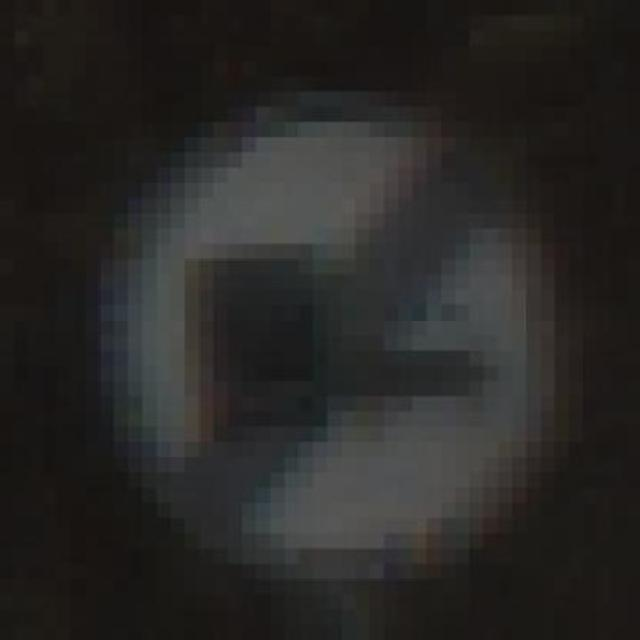Overtaking by trucks is prohibited: (71, 76, 597, 595)
